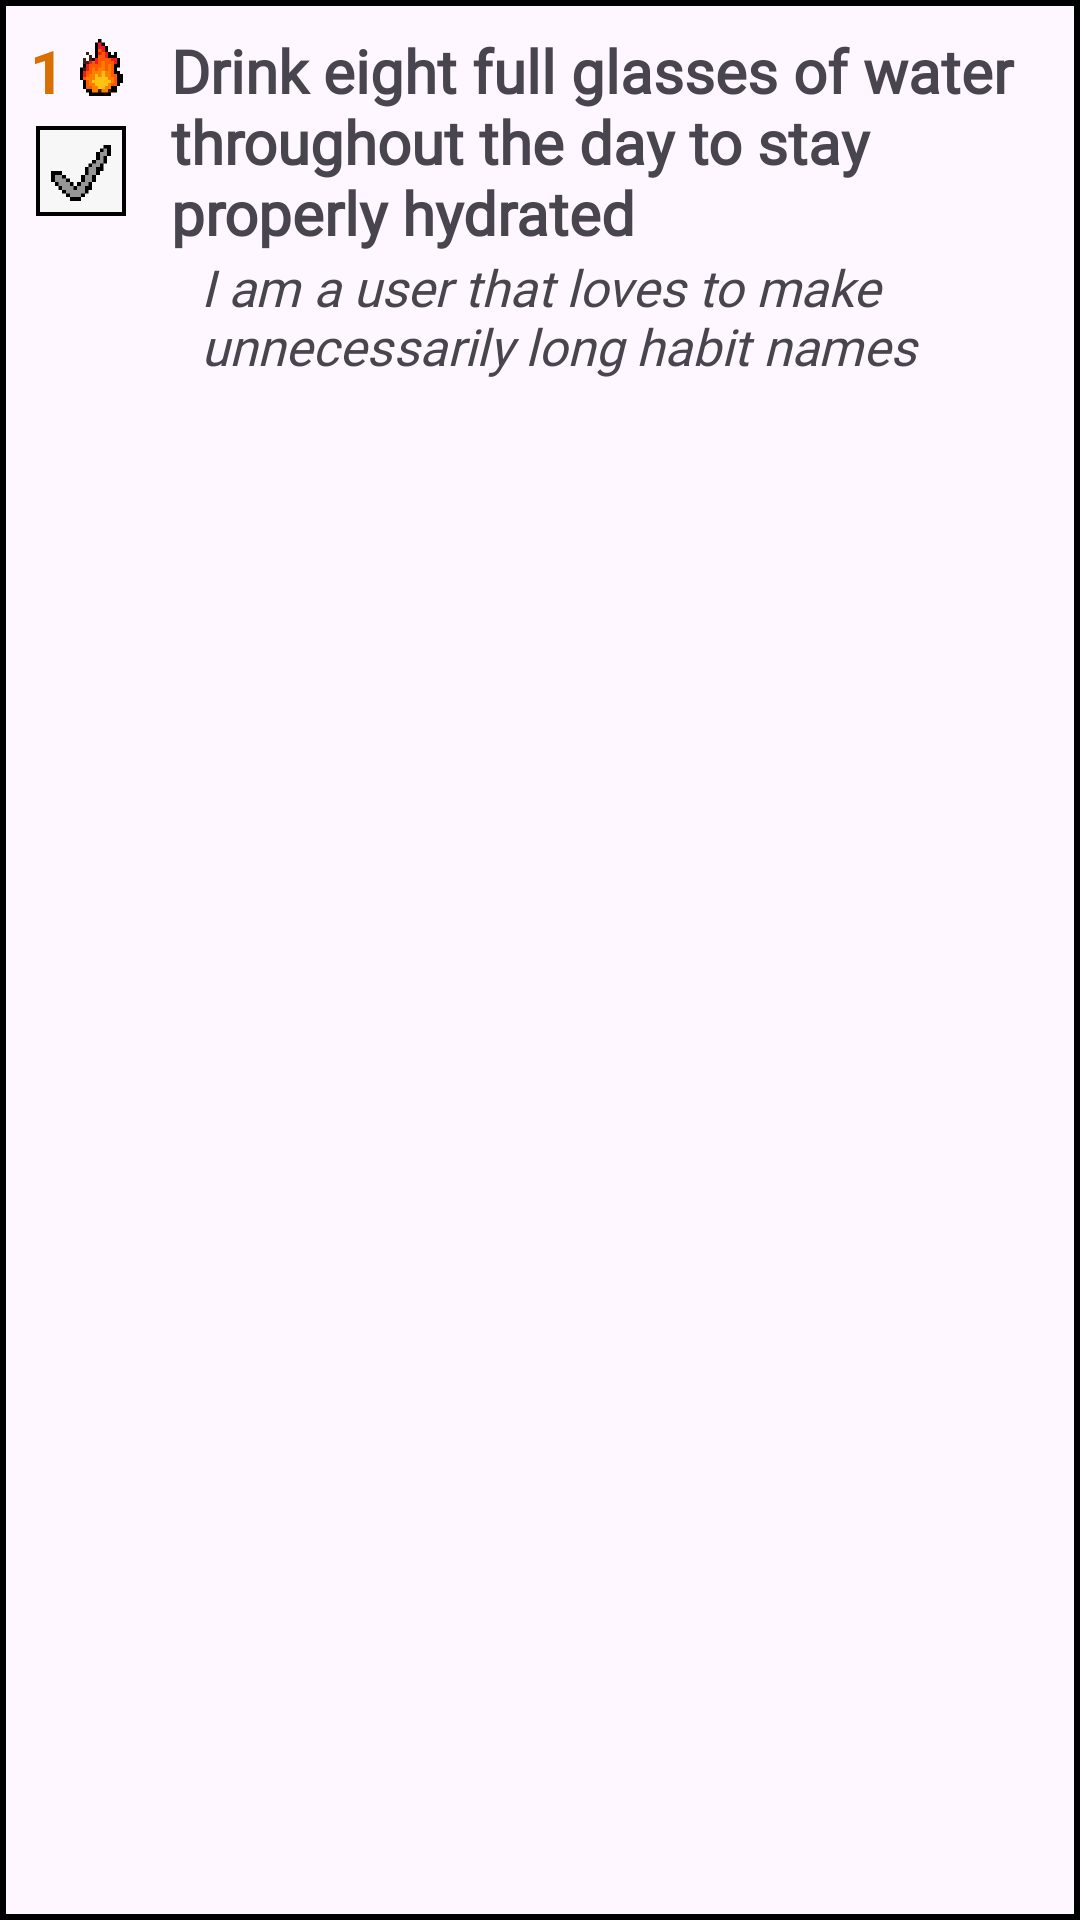

Screen size 1080w x 1920h. Icon name, then its box in pixels as [left=x1, top=y1, right=x2, bottom=y2]:
fire: [left=80, top=39, right=123, bottom=96]
